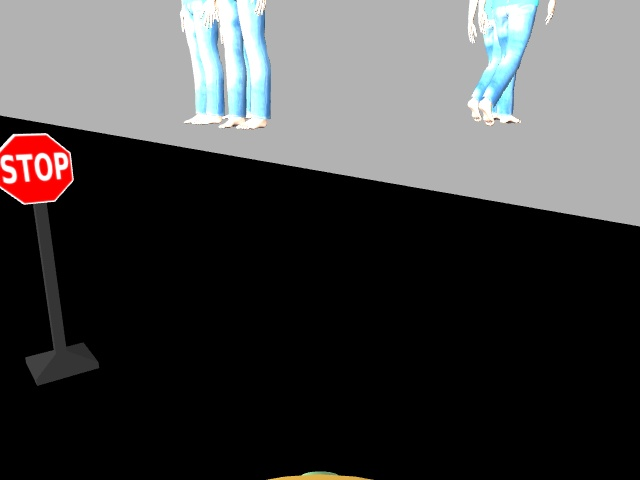Stop: (0, 129, 79, 205)
